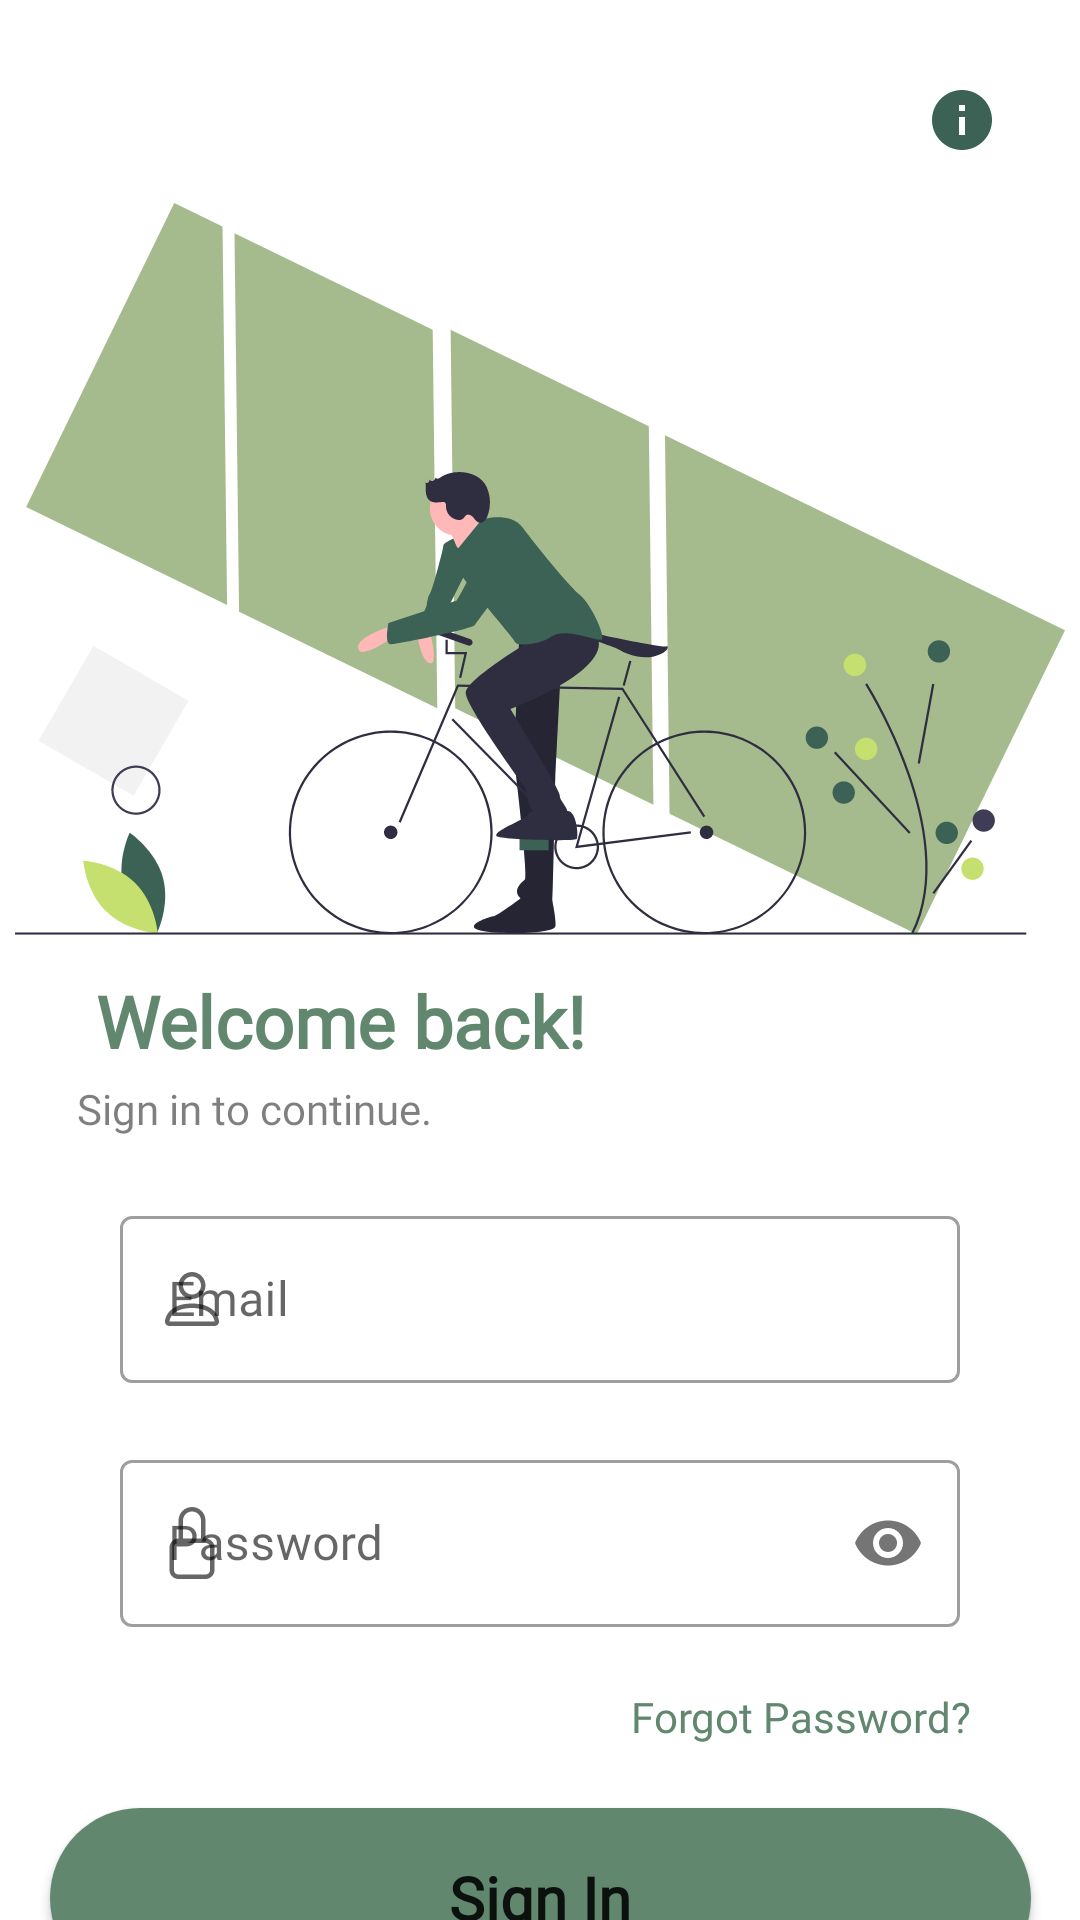

Point at icon controls on the screen. Image size 1080px x 1920px, points as (x,y).
info: (962,120)
